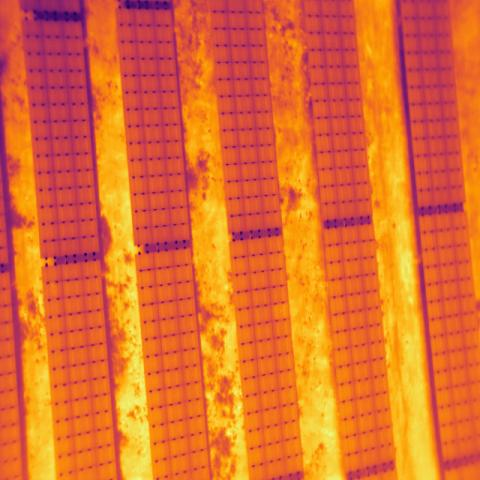fault: (273, 303, 287, 320)
